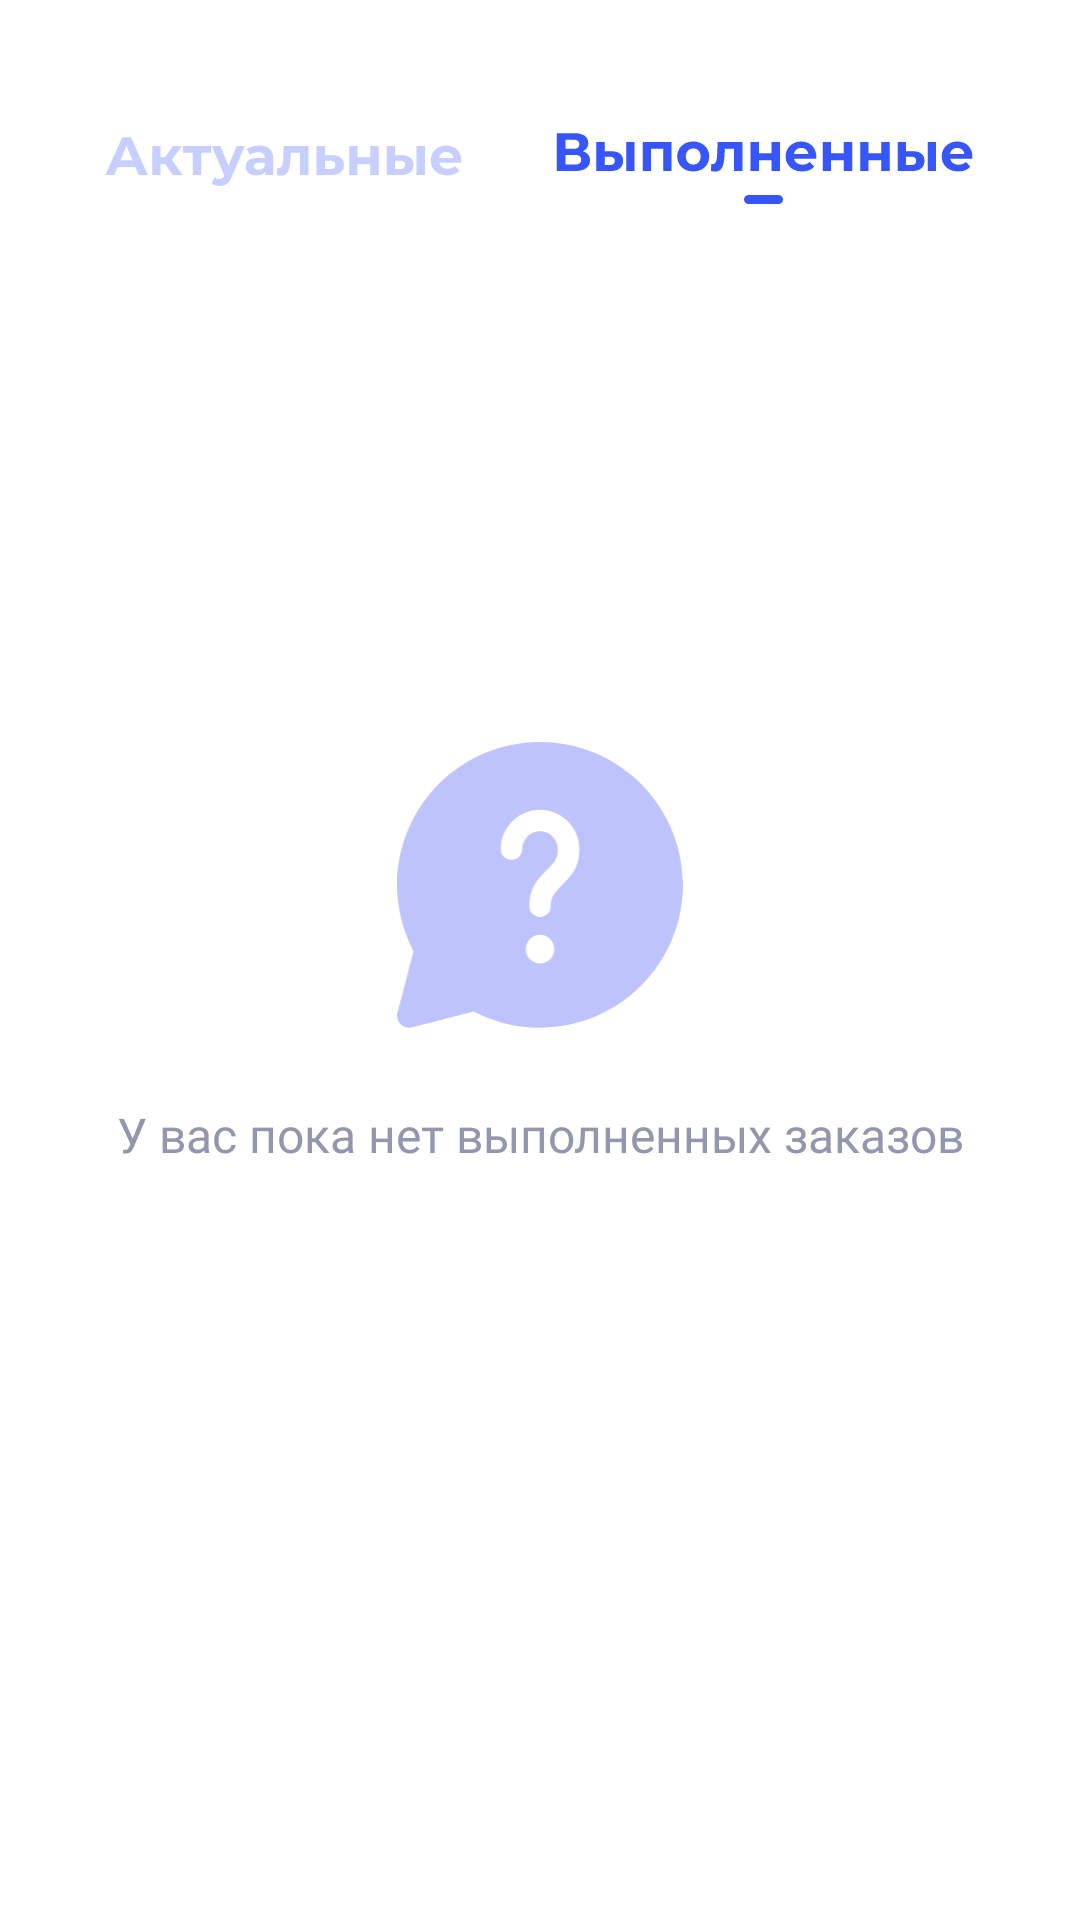

Screen size 1080*1920. Icon name, then its center in pixels as [x,y]:
help: [540,885]
